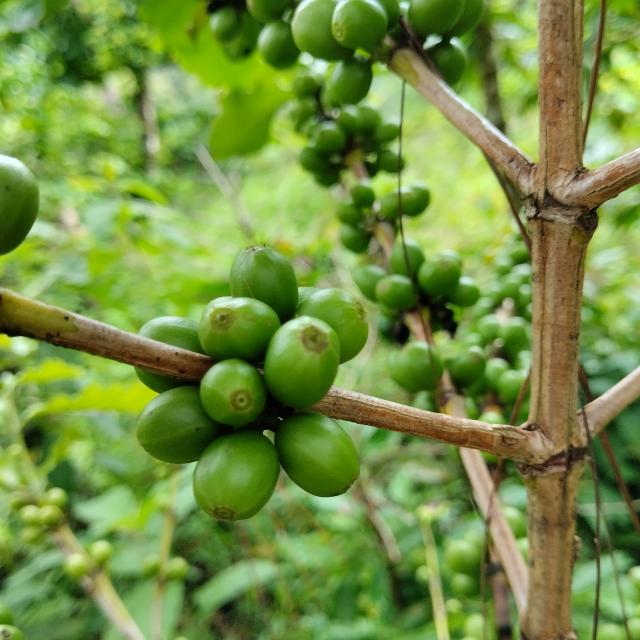green: (192, 431, 280, 522), (275, 412, 360, 498), (264, 316, 341, 409), (136, 386, 227, 464), (296, 288, 369, 364), (198, 297, 281, 363), (229, 245, 298, 322), (199, 359, 267, 427), (0, 154, 38, 255), (332, 0, 389, 49), (138, 316, 205, 354), (135, 368, 190, 394), (297, 287, 320, 307)
